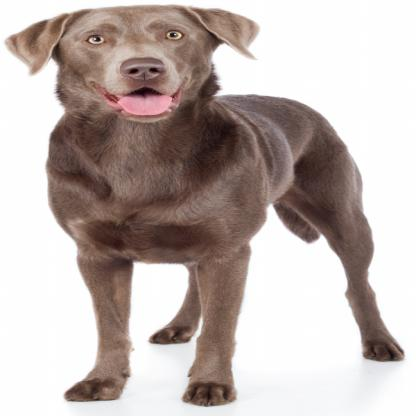Labarador Retriever: (4, 5, 402, 406)
